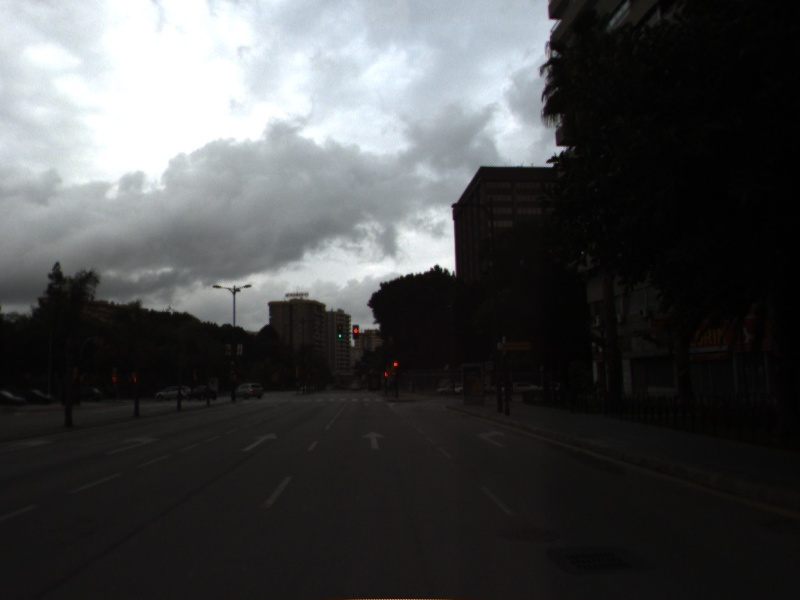LEFT: (104, 433, 162, 455)
RIGHT: (474, 426, 508, 449)
STRAIGHT: (239, 430, 280, 453), (359, 429, 387, 451)
